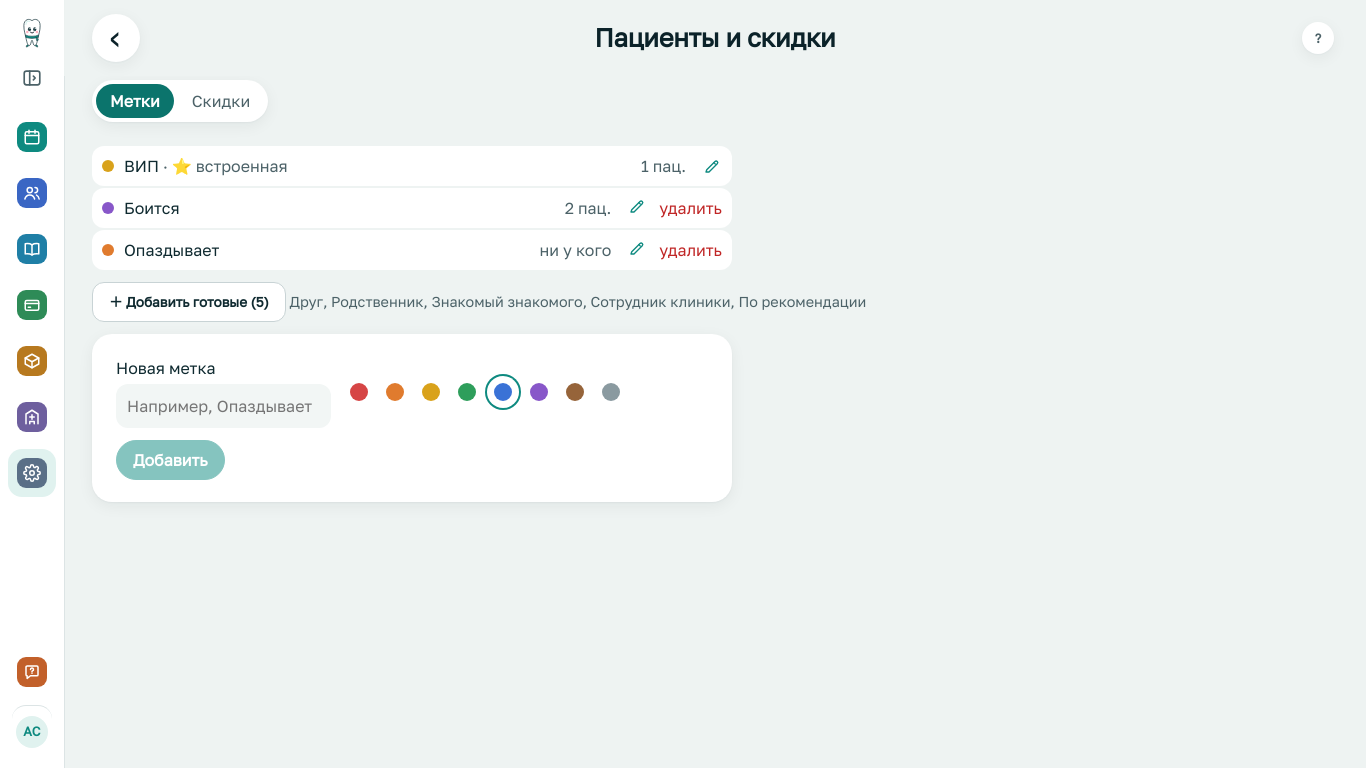
Test: «Настройки → Пациенты и скидки → Метки» › метку ни у кого — спрашиваем без «снимется у всех пациентов (ни у кого)»
Click the button with aria-label "Удалить метку Опаздывает" at (691,250), box [659,238,722,262]
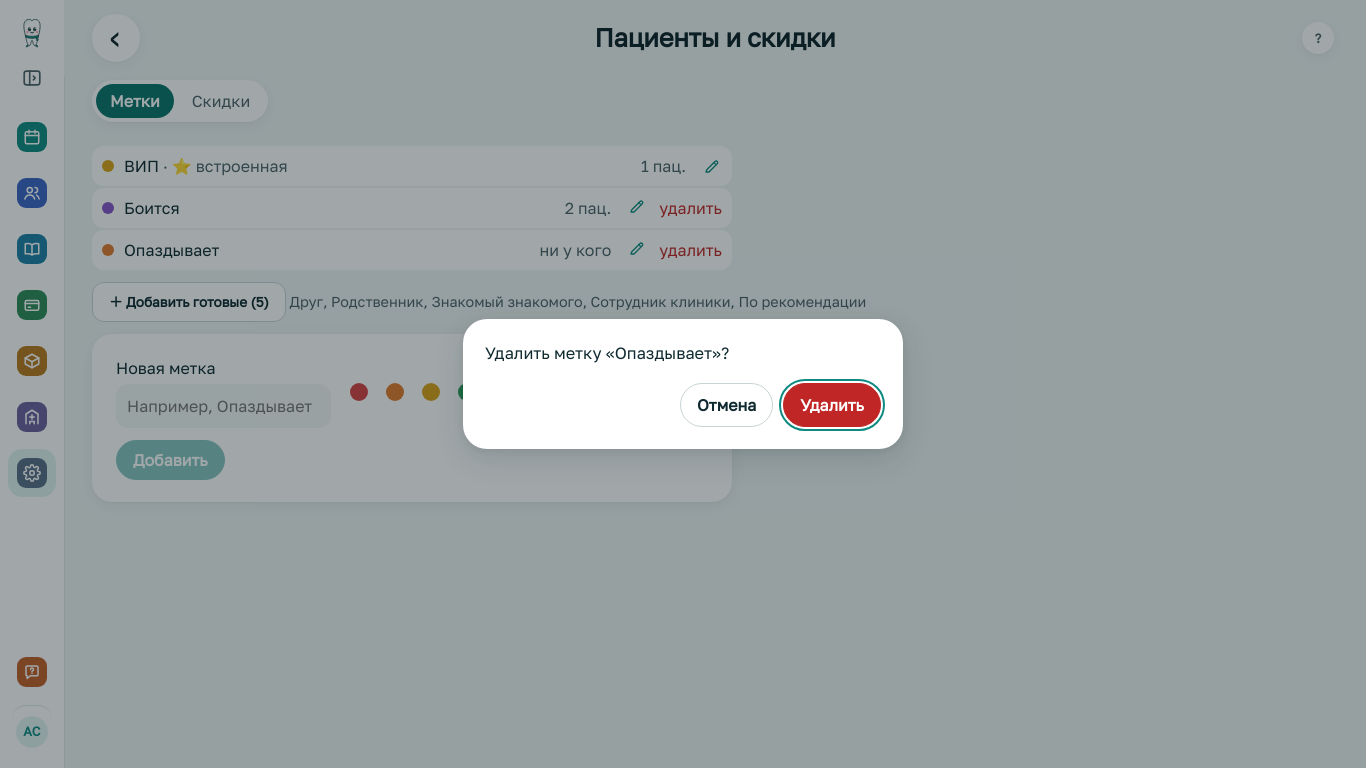
expect the text "Удалить метку «Опаздывает»?" is shown: met, box [485,343,729,363]
